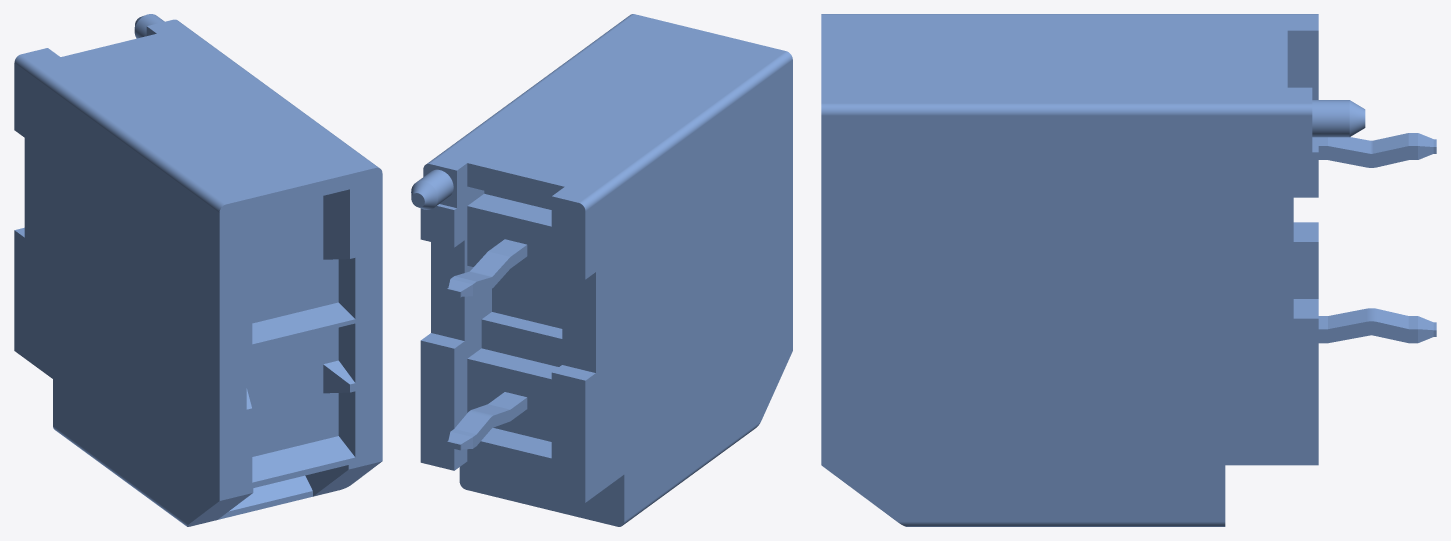
3 views of the same model, side by side, from view 1: azimuth 30°, elevation 25°; view 2: azimuth 150°, elevation 25°; view 3: azimuth 270°, elevation 25° (orthographic). The views are drawn at different scales.
Parts seen in each view (by area): view 1: mesh93871, mesh93862, mesh93946, mesh93955, mesh93948, mesh93863, mesh93964, mesh93953, mesh93950, mesh93851, mesh93959, mesh93952 (+8 smaller); view 2: mesh93871, mesh93862, mesh93846, mesh93872, mesh93874, mesh93842, mesh93909, mesh93903, mesh93870, mesh93863, mesh93840, mesh93864 (+19 smaller); view 3: mesh93843, mesh93862, mesh93836, mesh93904, mesh93844, mesh93919, mesh93891, mesh93834.
Part boxes in pixels (box(x1,y1,x2,y2)): mesh93871: box(14, 63, 219, 524); mesh93862: box(21, 19, 375, 204); mesh93946: box(219, 167, 382, 500); mesh93955: box(246, 327, 338, 456); mesh93948: box(252, 196, 338, 323); mesh93863: box(14, 54, 225, 212); mesh93964: box(252, 436, 354, 482); mesh93953: box(252, 302, 354, 344); mesh93950: box(323, 189, 349, 259); mesh93851: box(229, 475, 312, 511); mesh93959: box(338, 391, 355, 456); mesh93952: box(338, 258, 355, 318); mesh93871: box(585, 60, 792, 520); mesh93862: box(430, 14, 785, 202); mesh93846: box(459, 461, 624, 526); mesh93872: box(551, 372, 585, 502); mesh93874: box(467, 206, 562, 288); mesh93842: box(420, 340, 454, 470); mesh93909: box(467, 359, 551, 438); mesh93903: box(454, 163, 491, 470); mesh93870: box(562, 272, 595, 372); mesh93863: box(579, 51, 792, 211); mesh93840: box(431, 240, 464, 340); mesh93864: box(551, 196, 585, 279); mesh93843: box(821, 116, 1318, 521); mesh93862: box(821, 15, 1318, 103); mesh93836: box(821, 103, 1312, 115); mesh93904: box(1287, 30, 1318, 298); mesh93844: box(897, 521, 1225, 526); mesh93919: box(1318, 321, 1417, 343); mesh93891: box(1318, 146, 1417, 167); mesh93834: box(1312, 100, 1349, 137).
Size of the model in its own units: 0.00734 by 0.015 by 0.0198.
